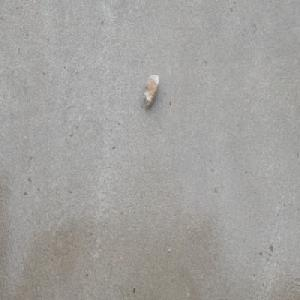Rock: (143, 71, 161, 109)
